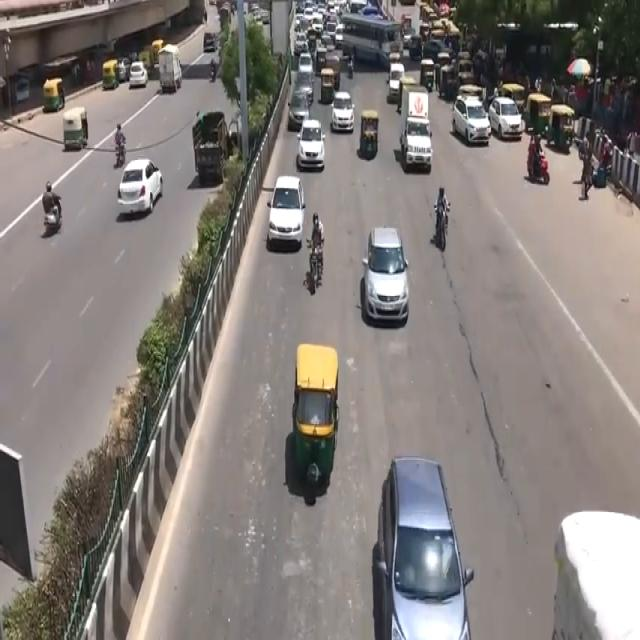BUS: (339, 10, 403, 62)
MOTORCYCLE: (44, 195, 64, 238), (310, 242, 325, 298), (437, 204, 452, 251)
TRUCK: (193, 112, 230, 189), (159, 47, 185, 95)
